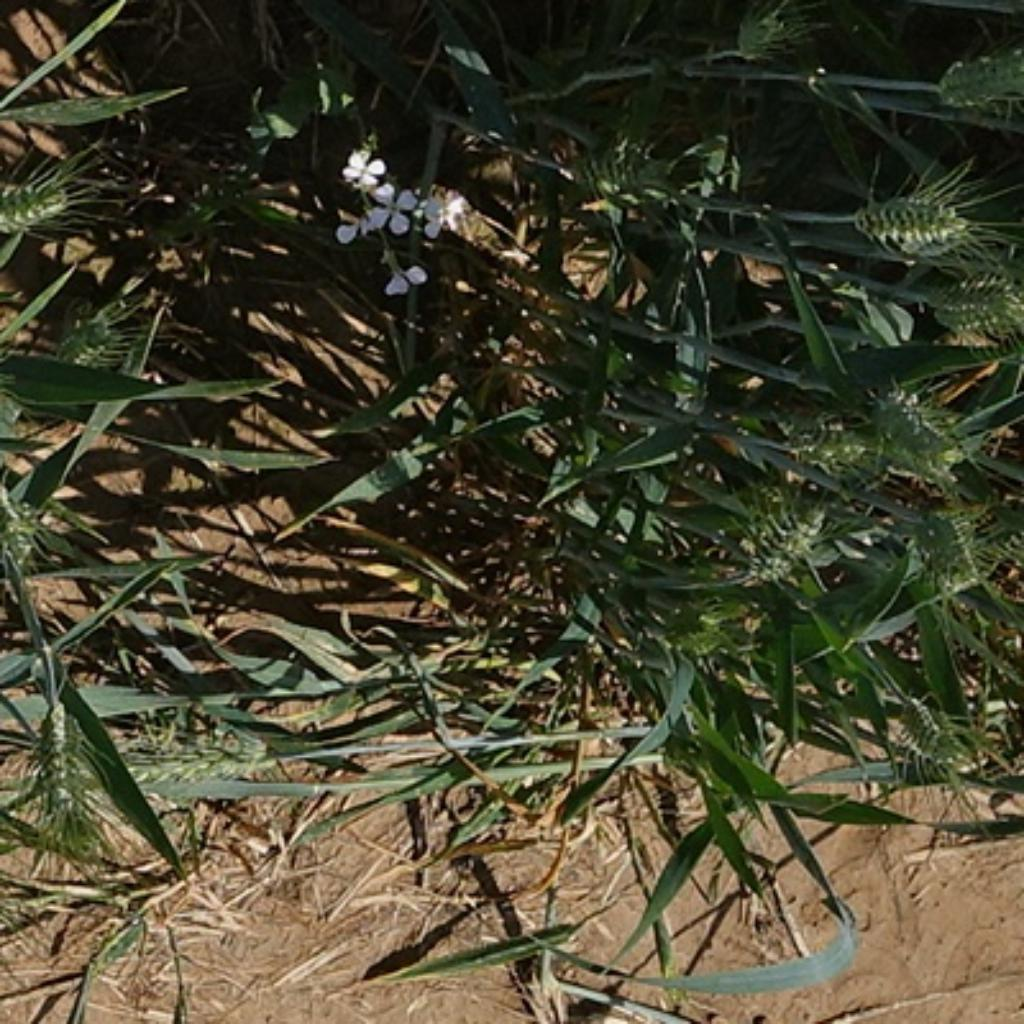0-0: (563, 120, 732, 276), (99, 725, 278, 797), (727, 465, 842, 576), (857, 373, 972, 481), (23, 693, 97, 842), (844, 179, 980, 256), (775, 399, 888, 481), (653, 588, 740, 680), (887, 690, 977, 772), (933, 269, 1017, 344), (720, 0, 815, 62), (936, 46, 1024, 112), (920, 499, 990, 579), (51, 296, 130, 366), (0, 167, 70, 237), (0, 478, 46, 576), (980, 520, 1024, 570)
